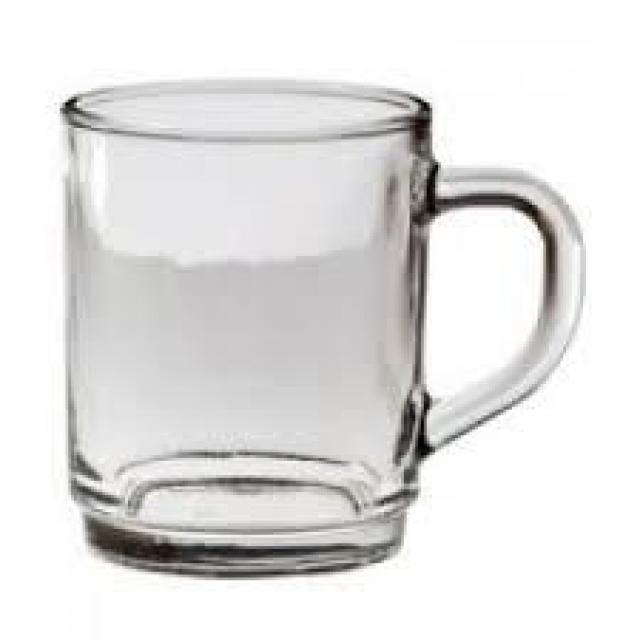non-organic waste: (41, 67, 596, 584)
